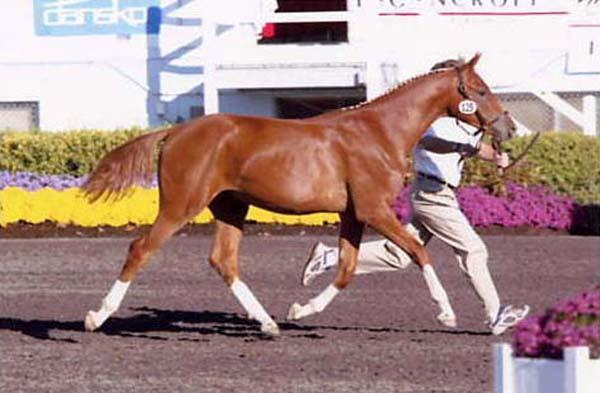horse: (79, 51, 518, 338)
